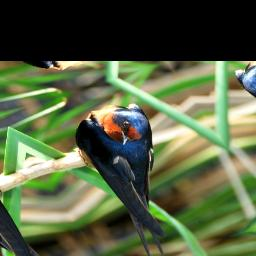Swallow: (53, 95, 231, 256)
